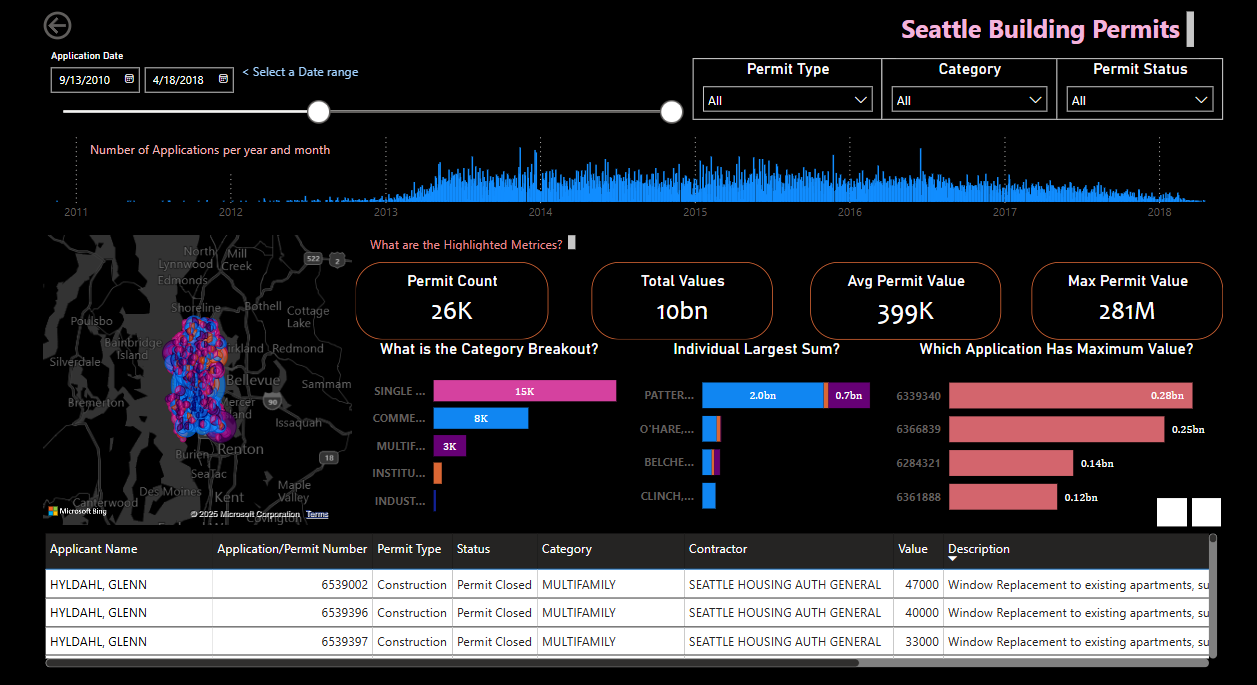

The dashboard page shown, as its layout file describes it:
{"tool":"powerbi","page":{"name":"Page 1","canvas":[1280,720],"ordinal":0},"visuals":[{"type":"card","title":"Total Values","fields":{"Values":["building-permits-current-cleaned.Value"]},"box":[597.5,276.2,196.2,83.8],"z":0},{"type":"slicer","title":"Permit Type","fields":{"Values":["building-permits-current-cleaned.Permit Type"]},"box":[706.2,55,205,66.2],"z":1000},{"type":"card","title":"Permit Count","fields":{"Values":["building-permits-current-cleaned.Permit Type"]},"box":[342.5,276.2,208.8,83.8],"z":2000},{"type":"barChart","title":"What is the Category Breakout?","fields":{"Category":["building-permits-current-cleaned.Category"],"Y":["building-permits-current-cleaned.Category"],"Series":["building-permits-current-cleaned.Category"]},"box":[342.5,360,290,203.8],"z":3000},{"type":"barChart","title":"Individual Largest Sum?","fields":{"Category":["building-permits-current-cleaned.Applicant Name"],"Y":["building-permits-current-cleaned.Value"],"Series":["building-permits-current-cleaned.Category"]},"box":[632.5,360,287.5,203.8],"z":4000},{"type":"barChart","title":"Which Application Has Maximum Value?","fields":{"Y":["building-permits-current-cleaned.Value"],"Category":["building-permits-current-cleaned.Application/Permit Number"]},"box":[920,360,360,205],"z":5000},{"type":"lineStackedColumnComboChart","title":"Number of Registered Permits per Month","fields":{"Category":["building-permits-current-cleaned.Application Date"],"Y":["building-permits-current-cleaned.Application Date"]},"box":[0,126.2,1280,115],"z":6000},{"type":"tableEx","fields":{"Values":["building-permits-current-cleaned.Applicant Name","building-permits-current-cleaned.Application/Permit Number","building-permits-current-cleaned.Permit Type","building-permits-current-cleaned.Status","building-permits-current-cleaned.Category","building-permits-current-cleaned.Contractor","building-permits-current-cleaned.Value","building-permits-current-cleaned.Description"]},"box":[0,563.8,1280,156.2],"z":7000},{"type":"map","fields":{"Y":["building-permits-current-cleaned.Latitude"],"X":["building-permits-current-cleaned.Longitude"],"Size":["building-permits-current-cleaned.Application/Permit Number"],"Series":["building-permits-current-cleaned.Category"]},"box":[0,241.2,342.5,322.5],"z":8000},{"type":"slicer","title":"Category","fields":{"Values":["building-permits-current-cleaned.Category"]},"box":[911.2,55,190,66.2],"z":9000},{"type":"card","title":"Avg Permit Value","fields":{"Values":["building-permits-current-cleaned.Value"]},"box":[833.8,276.2,206.2,83.8],"z":10000},{"type":"card","title":"Max Permit Value","fields":{"Values":["building-permits-current-cleaned.Value"]},"box":[1072.5,276.2,207.5,83.8],"z":11000},{"type":"actionButton","box":[0,0,100,40],"z":12000},{"type":"slicer","title":"Permit Status","fields":{"Values":["building-permits-current-cleaned.Status"]},"box":[1100,55,180,66.2],"z":13000},{"type":"slicer","fields":{"Values":["building-permits-current-cleaned.Application Date"]},"box":[0,40,705,86.2],"z":14000},{"type":"textbox","box":[927.5,0,326.2,55],"z":14001},{"type":"textbox","box":[213.8,55,156.2,40],"z":14002},{"type":"textbox","box":[50,138.8,303.8,40],"z":14003},{"type":"textbox","box":[352.5,241.2,232.5,26.2],"z":14004}]}

Visuals, with their boxes on the page's 1280x720 design canvas (x1, y1, x2, y2). These are canvas units, not pixel positions in the 1257x685 screenshot, which may show the page scaled, cropped or inside an application window:
"Total Values" card: pyautogui.locateOnScreen(598, 276, 794, 360)
"Permit Type" slicer: pyautogui.locateOnScreen(706, 55, 911, 121)
"Permit Count" card: pyautogui.locateOnScreen(342, 276, 551, 360)
"What is the Category Breakout?" barChart: pyautogui.locateOnScreen(342, 360, 632, 564)
"Individual Largest Sum?" barChart: pyautogui.locateOnScreen(632, 360, 920, 564)
"Which Application Has Maximum Value?" barChart: pyautogui.locateOnScreen(920, 360, 1280, 565)
"Number of Registered Permits per Month" lineStackedColumnComboChart: pyautogui.locateOnScreen(0, 126, 1280, 241)
tableEx - building-permits-current-cleaned.Applicant Name x building-permits-current-cleaned.Application/Permit Number: pyautogui.locateOnScreen(0, 564, 1280, 720)
map - building-permits-current-cleaned.Latitude x building-permits-current-cleaned.Longitude: pyautogui.locateOnScreen(0, 241, 342, 564)
"Category" slicer: pyautogui.locateOnScreen(911, 55, 1101, 121)
"Avg Permit Value" card: pyautogui.locateOnScreen(834, 276, 1040, 360)
"Max Permit Value" card: pyautogui.locateOnScreen(1072, 276, 1280, 360)
actionButton: pyautogui.locateOnScreen(0, 0, 100, 40)
"Permit Status" slicer: pyautogui.locateOnScreen(1100, 55, 1280, 121)
slicer - building-permits-current-cleaned.Application Date: pyautogui.locateOnScreen(0, 40, 705, 126)
textbox: pyautogui.locateOnScreen(928, 0, 1254, 55)
textbox: pyautogui.locateOnScreen(214, 55, 370, 95)
textbox: pyautogui.locateOnScreen(50, 139, 354, 179)
textbox: pyautogui.locateOnScreen(352, 241, 585, 267)
